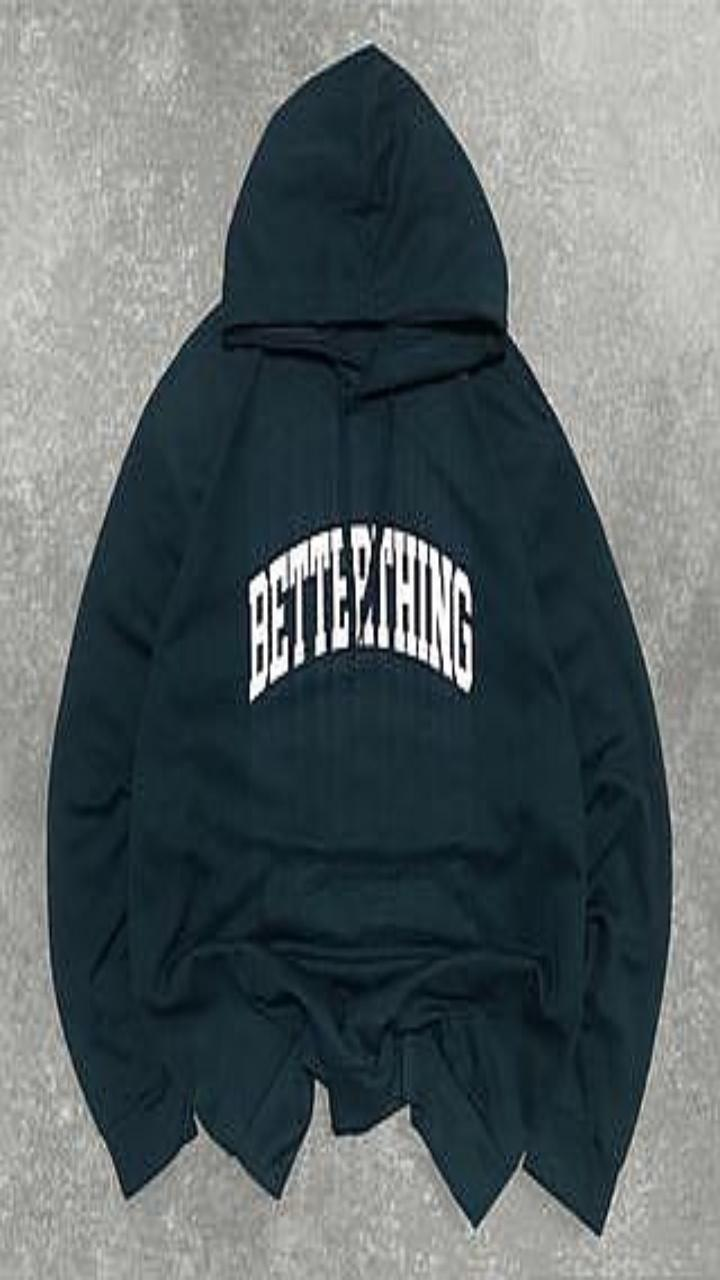Hoodie: (47, 44, 670, 1233)
